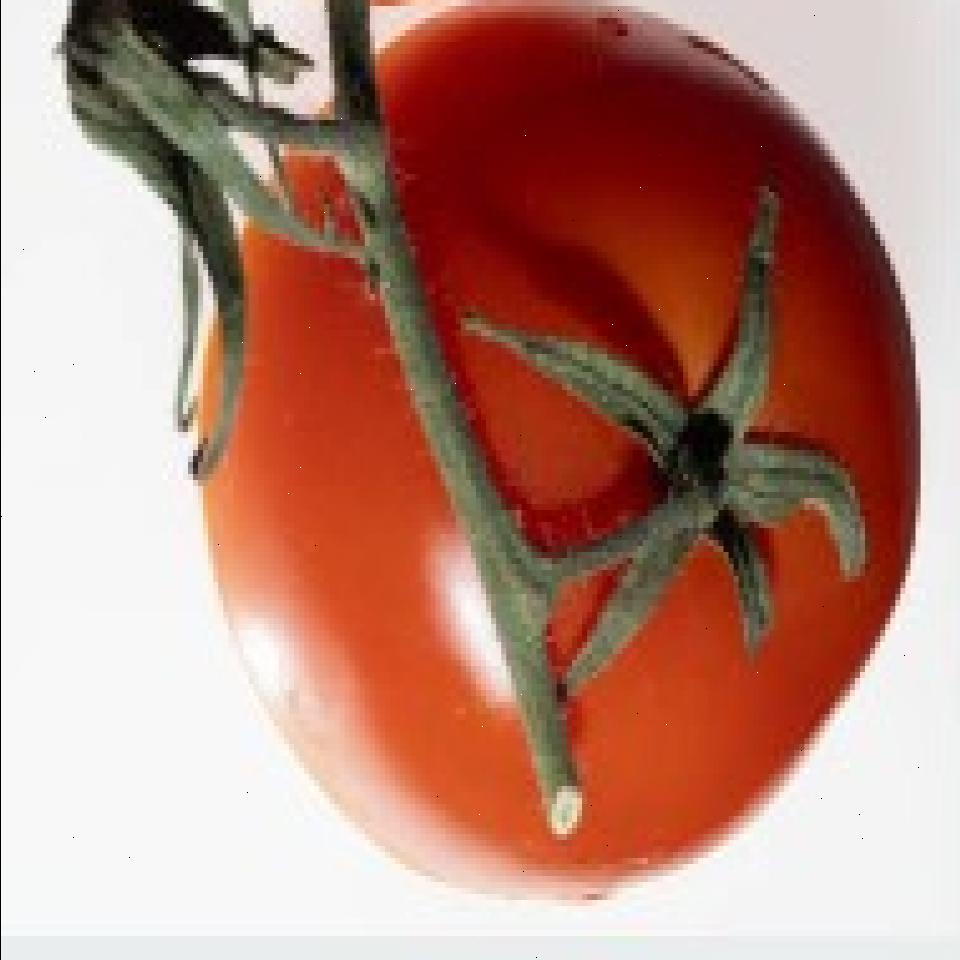Healthy: (202, 0, 934, 888)
